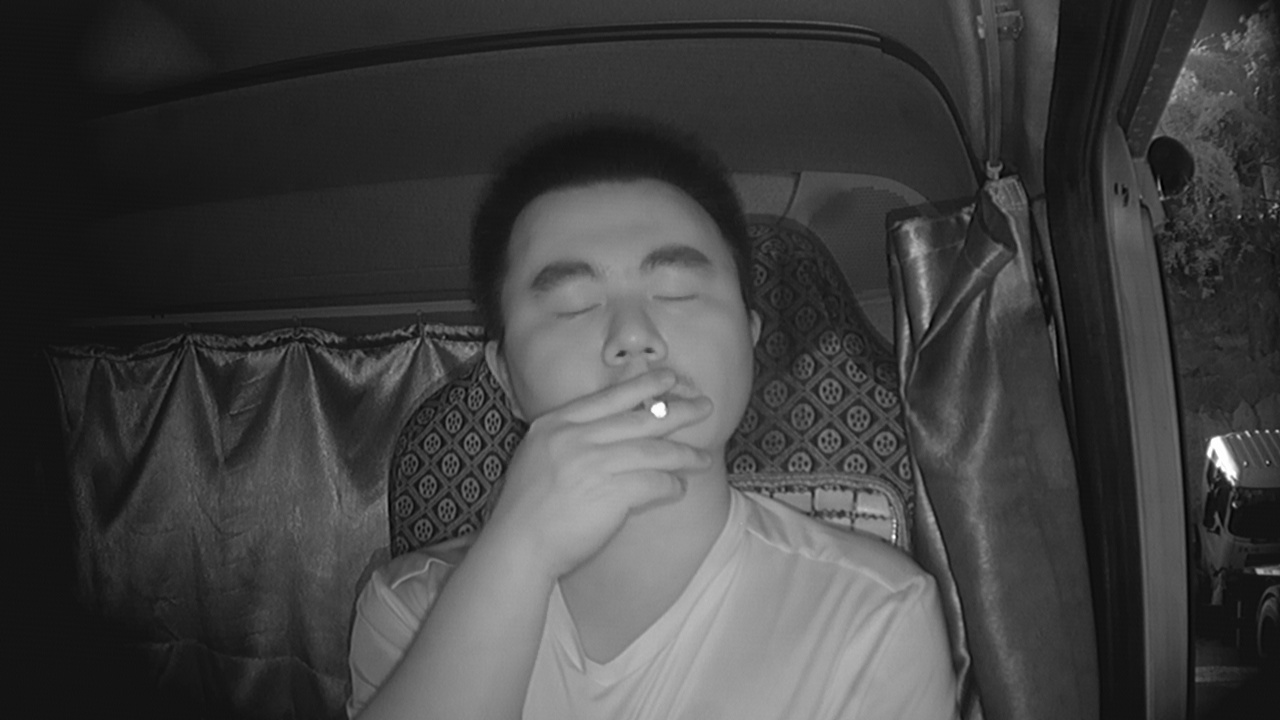hand: (513, 379, 709, 533)
